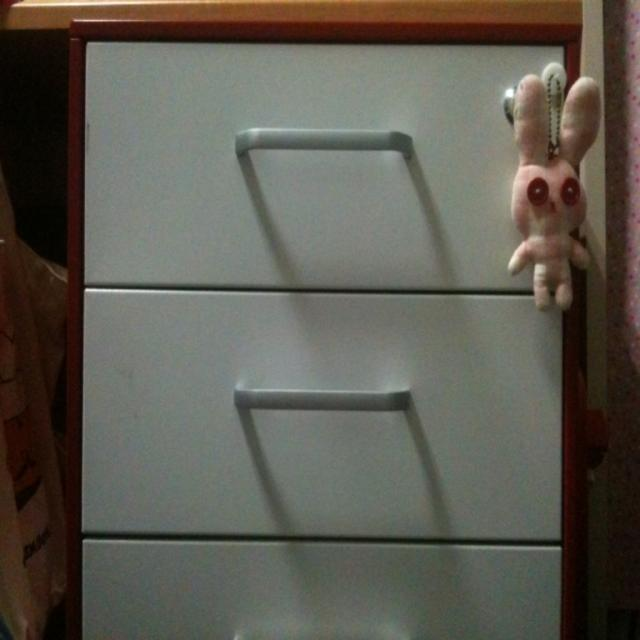Handle: (238, 121, 414, 161), (238, 379, 410, 416)
wardrobe: (79, 36, 567, 640)
